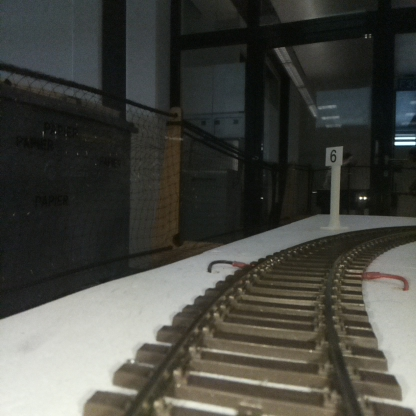white-info-6: (326, 147, 342, 228)
